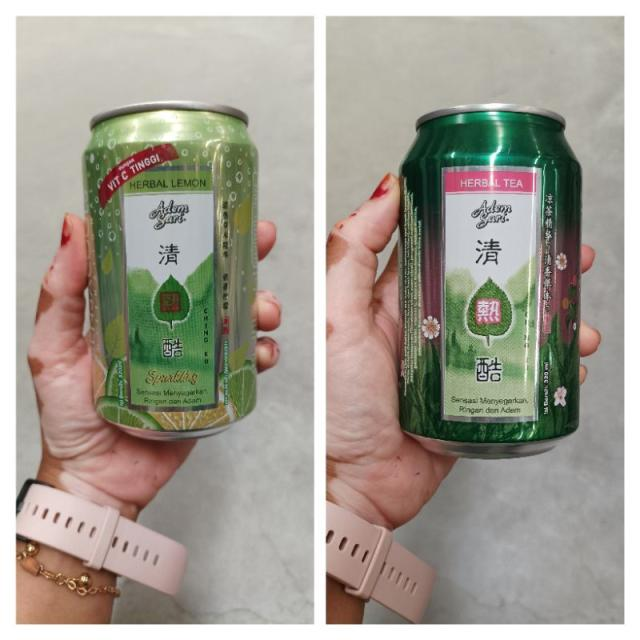ademsarikaleng: (395, 102, 583, 459), (81, 99, 259, 442)
